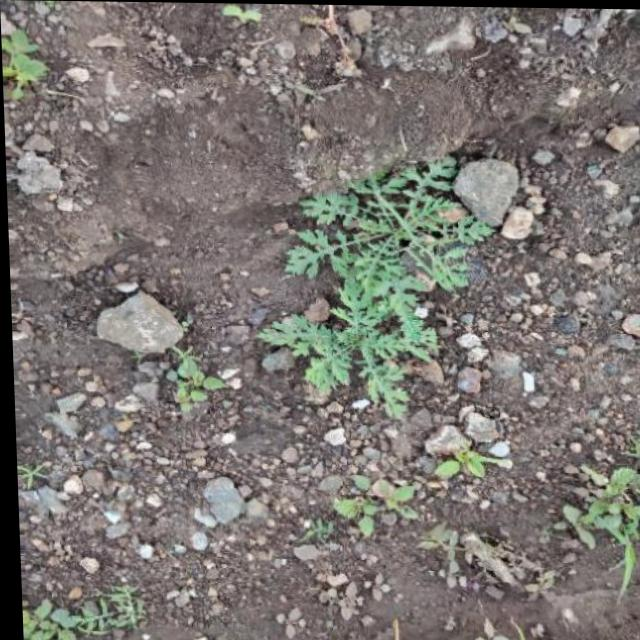weed: (263, 166, 493, 422)
